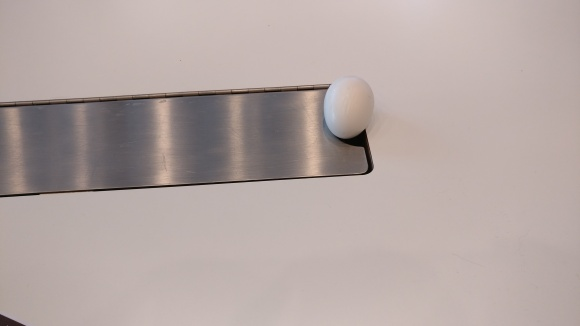egg: (322, 73, 376, 138)
